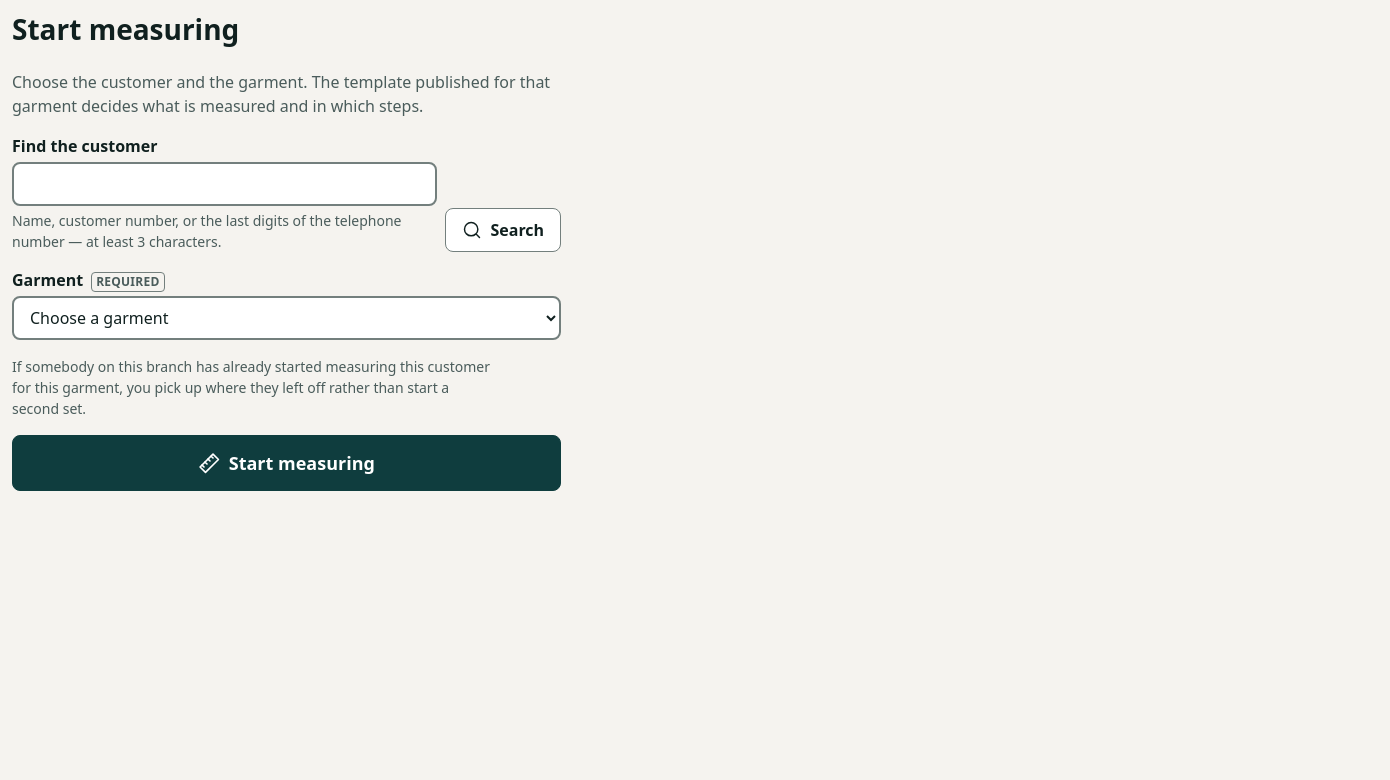
Test: starting a measurement › finds the customer, chooses the garment and opens the draft the server hands back
Type "Asha" into the search field labelled "Find the customer".
click(225, 184); type("Asha")  # box [12,162,438,206]
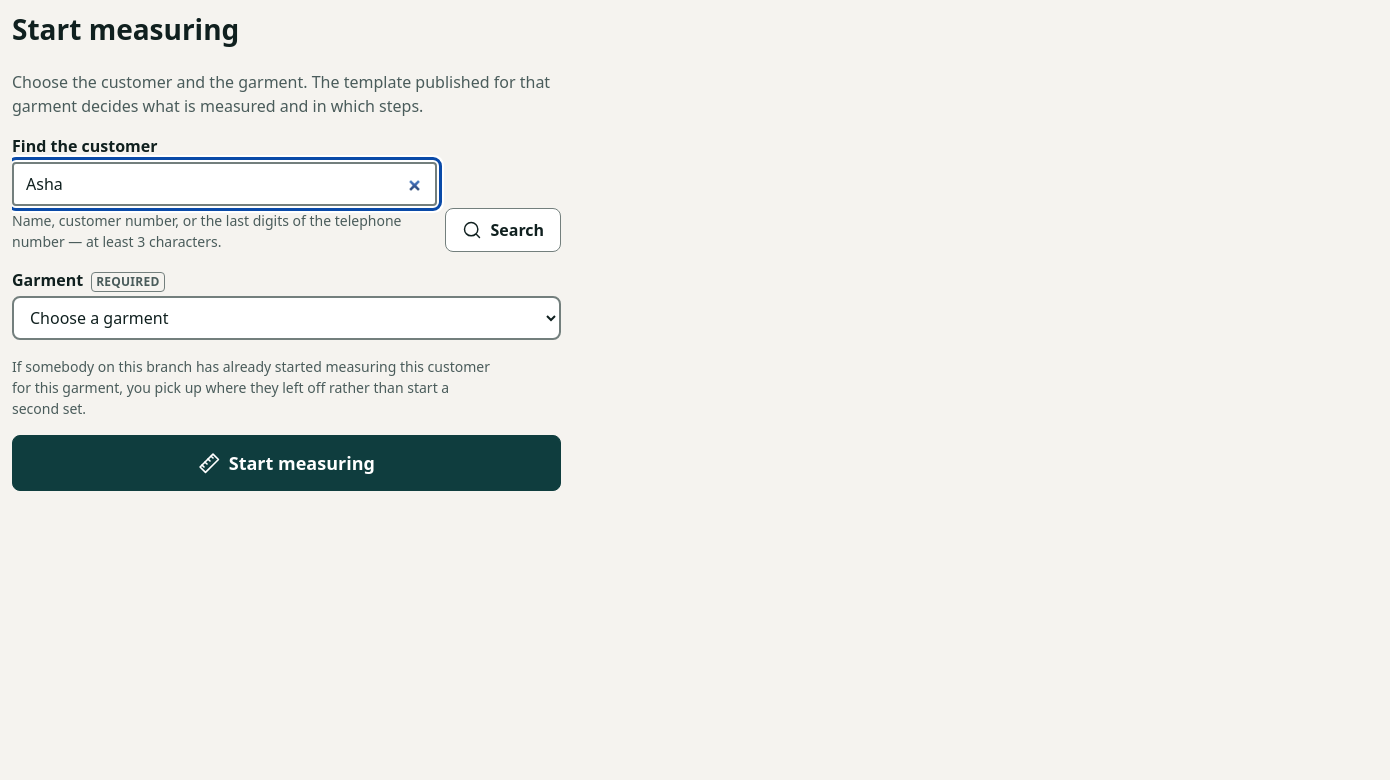
Click the button "Search".
click(503, 230)  # box [446,208,561,252]
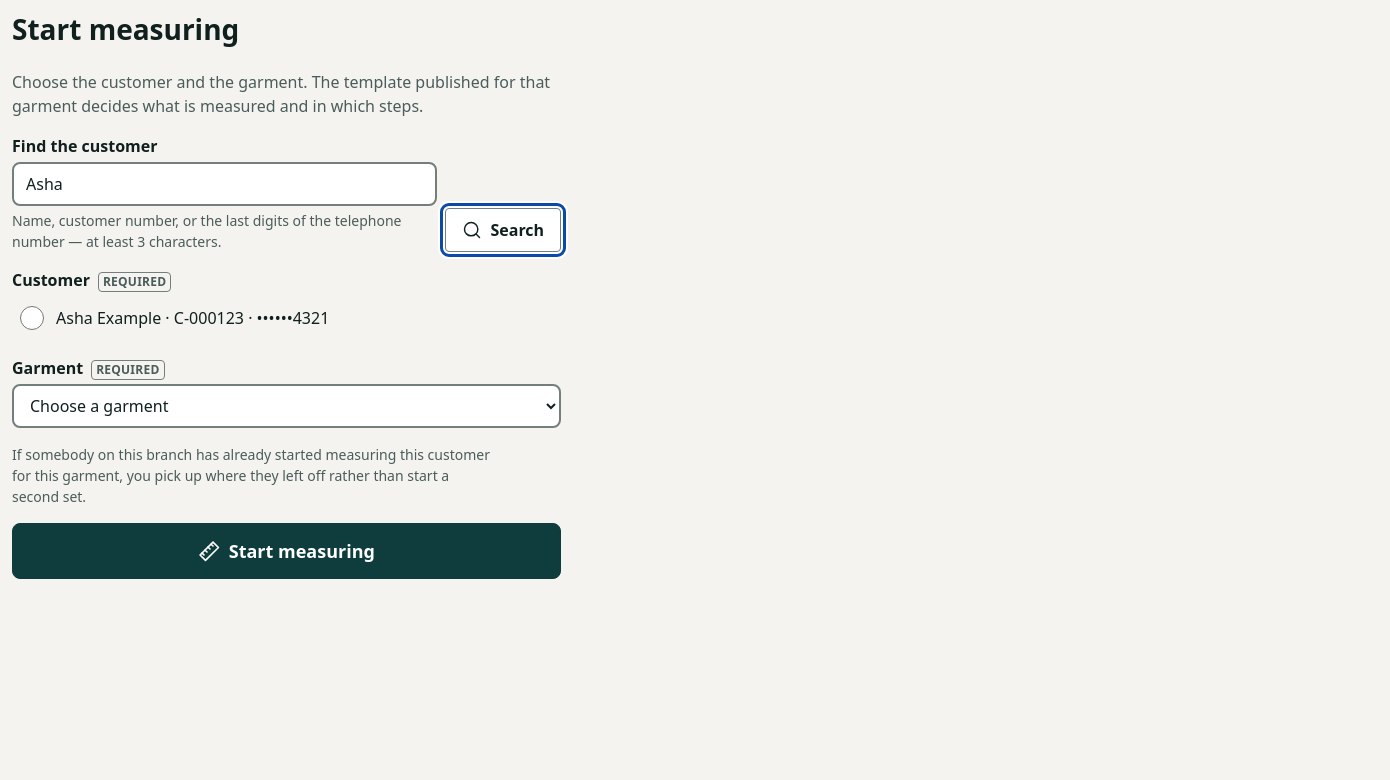
Click the radio button labelled "Asha Example · C-000123 · ••••••4321".
click(32, 318)  # box [20,306,44,330]
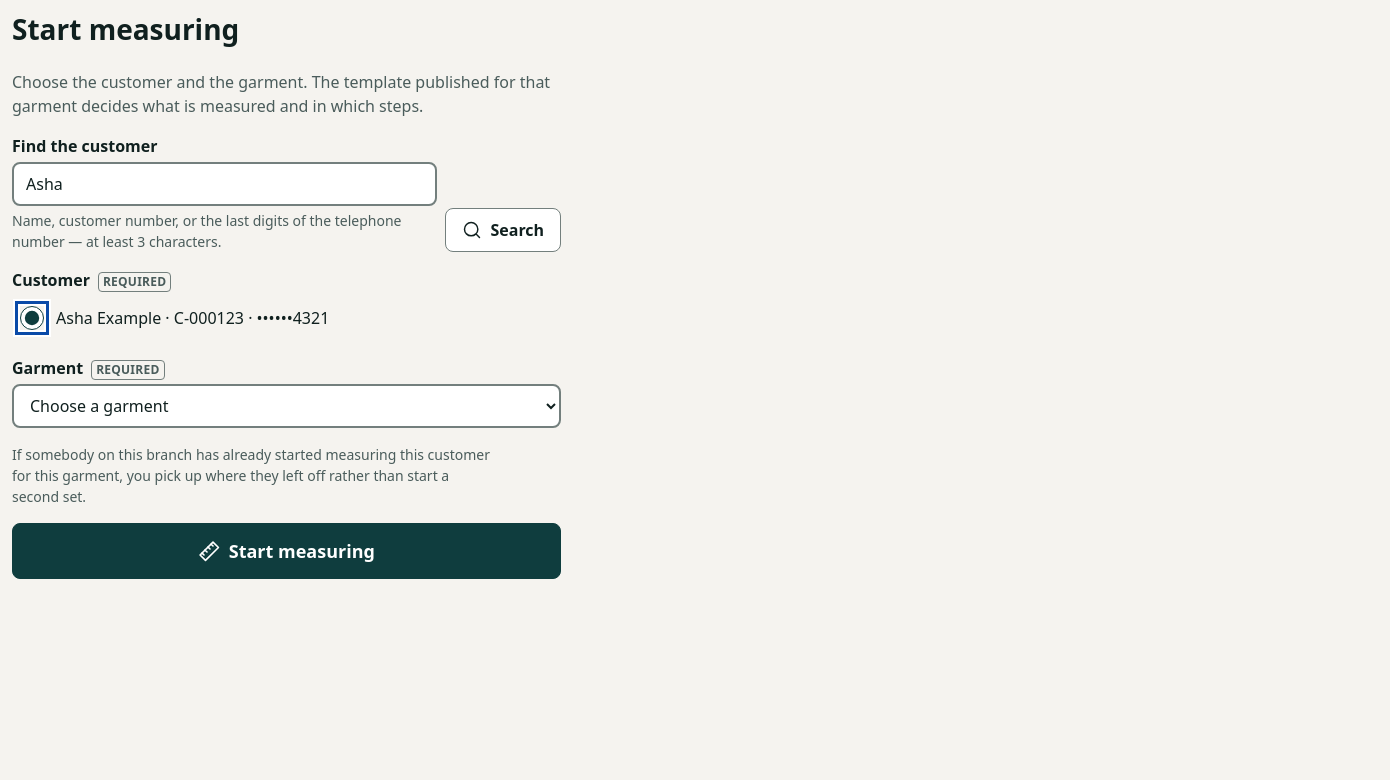
Select "Pattern work — Blouse" in the dropdown labelled "Garment" at (287, 406), box [12,384,561,428]
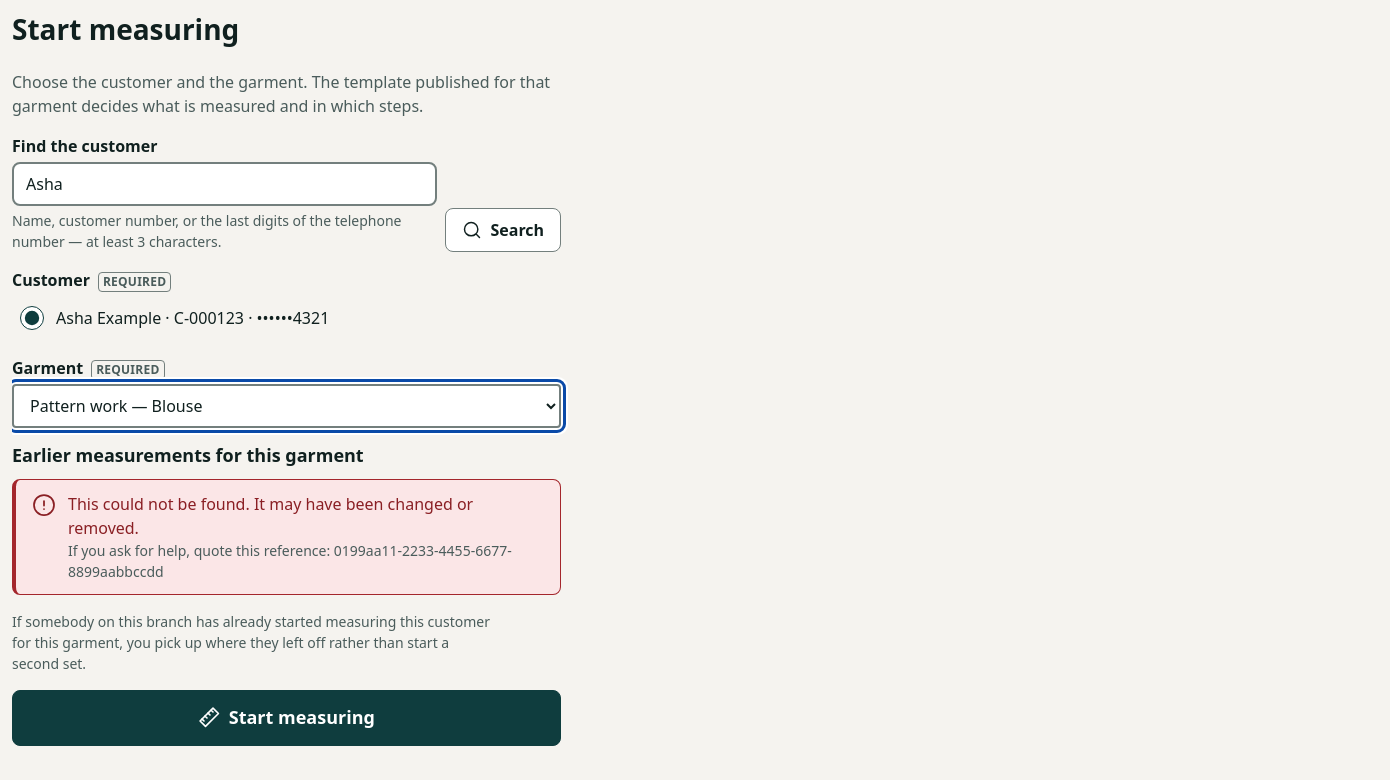
Click the button "Start measuring".
click(287, 718)  # box [12,690,561,746]
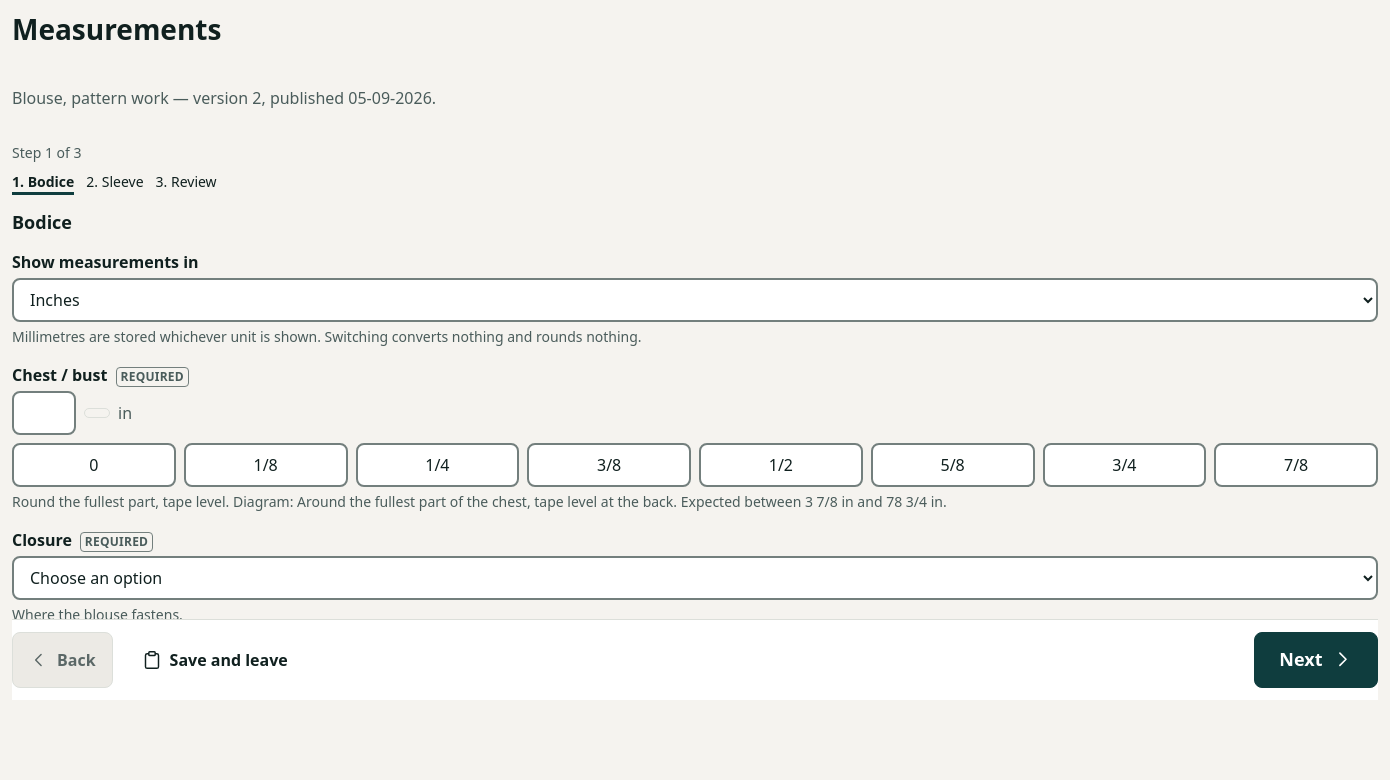
Now the heading "Bodice" is shown, box [12,210,72,234]
